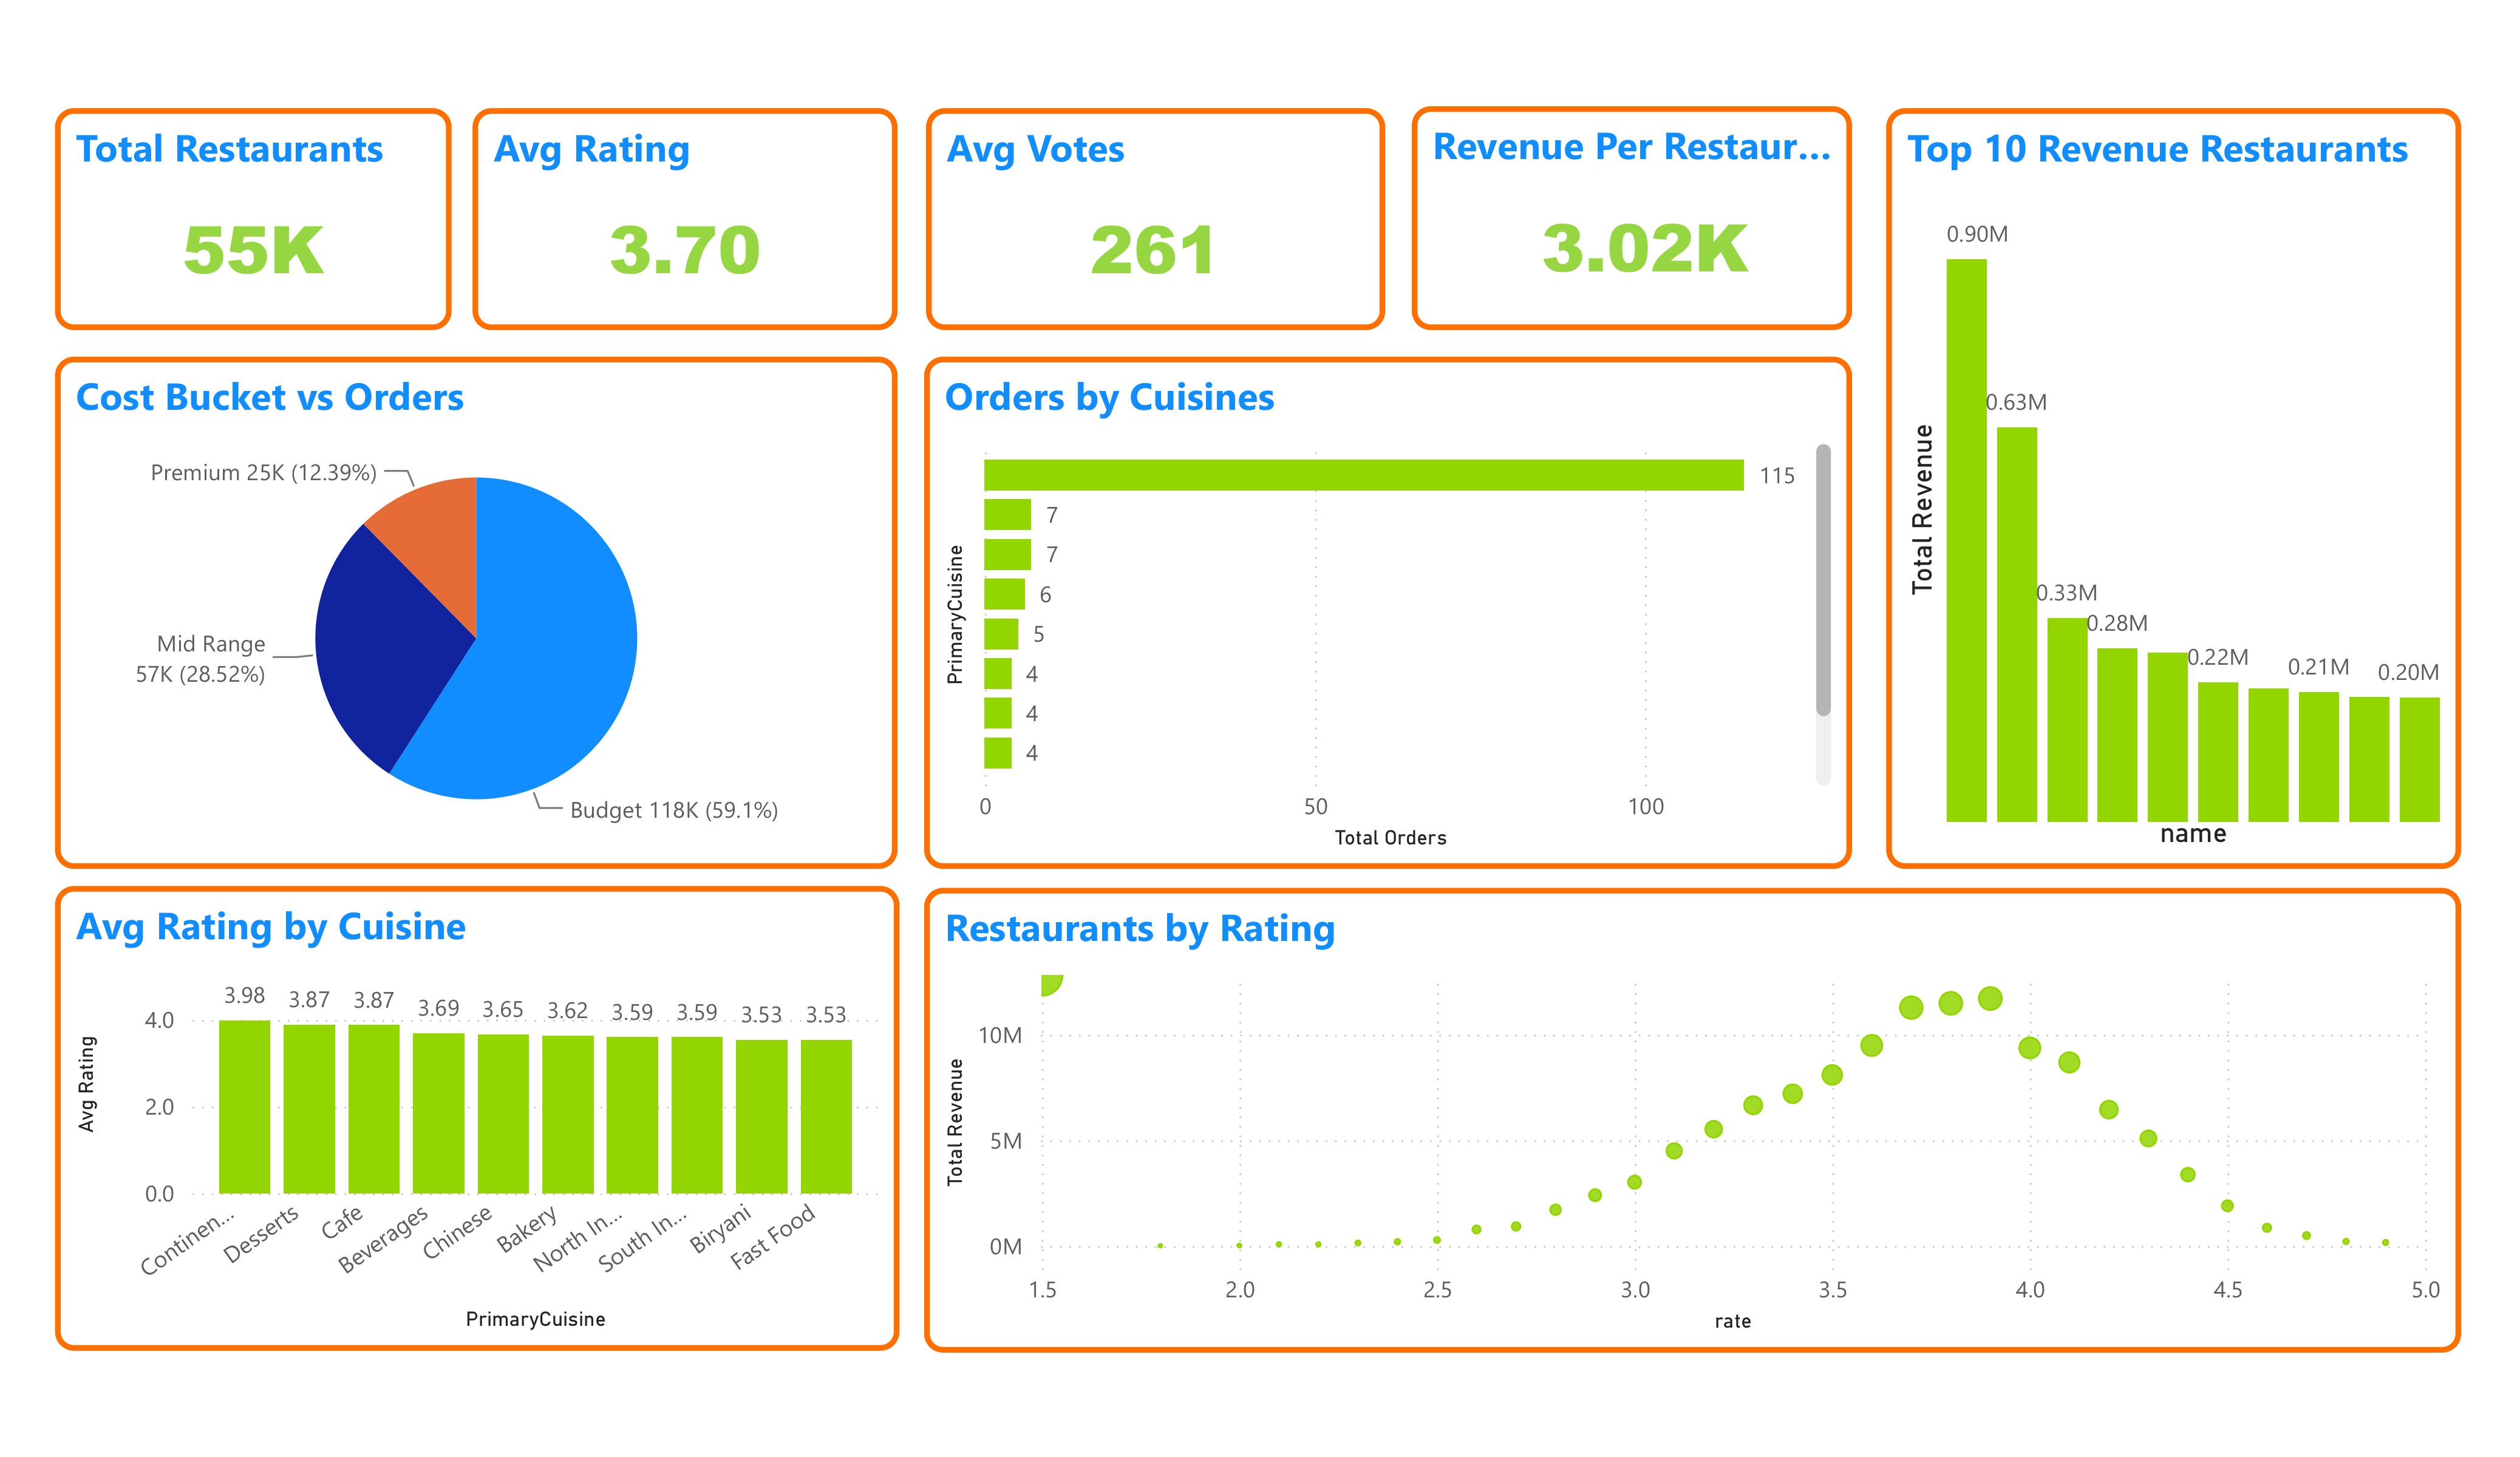

The page's visual inventory and layout, read from the dashboard file:
{"tool":"powerbi","page":{"name":"Restaurant Performance","canvas":[1280,720],"ordinal":2},"visuals":[{"type":"cardVisual","title":"Avg Rating","fields":{"Data":["Orders.Avg Rating"]},"box":[224.9,32.9,224.3,117.1],"z":0},{"type":"cardVisual","title":"Total Restaurants","fields":{"Data":["Orders.Total Restaurant"]},"box":[4.9,32.9,208.6,117.1],"z":1000},{"type":"cardVisual","title":"Avg Votes","fields":{"Data":["Orders.Average Vote"]},"box":[463.5,32.9,242.9,117.1],"z":2000},{"type":"cardVisual","title":"Revenue Per Restaurant","fields":{"Data":["Orders.Revenue per Restaurant"]},"box":[720.3,32.4,231.9,117.8],"z":3000},{"type":"pieChart","title":"Cost Bucket vs Orders","fields":{"Category":["Restaurants.Cost Bucket"],"Y":["Orders.Total Orders"]},"box":[4.9,164.4,444.3,270],"z":4000},{"type":"columnChart","title":"Top 10 Revenue Restaurants","fields":{"Y":["Orders.Total Revenue"],"Category":["Restaurants.name"]},"box":[969.7,32.9,302.9,401.4],"z":5000},{"type":"clusteredBarChart","title":"Orders by Cuisines","fields":{"Category":["Restaurants.PrimaryCuisine"],"Y":["Orders.Total Orders"]},"box":[463.5,164.3,488.6,269.8],"z":6000},{"type":"columnChart","title":"Avg Rating by Cuisine","fields":{"Y":["Orders.Avg Rating"],"Category":["Restaurants.PrimaryCuisine"]},"box":[4.7,443.5,445,245],"z":7000},{"type":"scatterChart","title":"Restaurants by Rating","fields":{"X":["Restaurants.rate"],"Y":["Orders.Total Revenue"],"Size":["Orders.Total Orders"]},"box":[463.5,443.7,809.3,245],"z":8000}]}

Visuals, with their boxes on the page's 1280x720 design canvas (x1, y1, x2, y2). These are canvas units, not pixel positions in the 2520x1457 screenshot, which may show the page scaled, cropped or inside an application window:
"Avg Rating" cardVisual: (225, 33, 449, 150)
"Total Restaurants" cardVisual: (5, 33, 214, 150)
"Avg Votes" cardVisual: (464, 33, 706, 150)
"Revenue Per Restaurant" cardVisual: (720, 32, 952, 150)
"Cost Bucket vs Orders" pieChart: (5, 164, 449, 434)
"Top 10 Revenue Restaurants" columnChart: (970, 33, 1273, 434)
"Orders by Cuisines" clusteredBarChart: (464, 164, 952, 434)
"Avg Rating by Cuisine" columnChart: (5, 444, 450, 688)
"Restaurants by Rating" scatterChart: (464, 444, 1273, 689)
